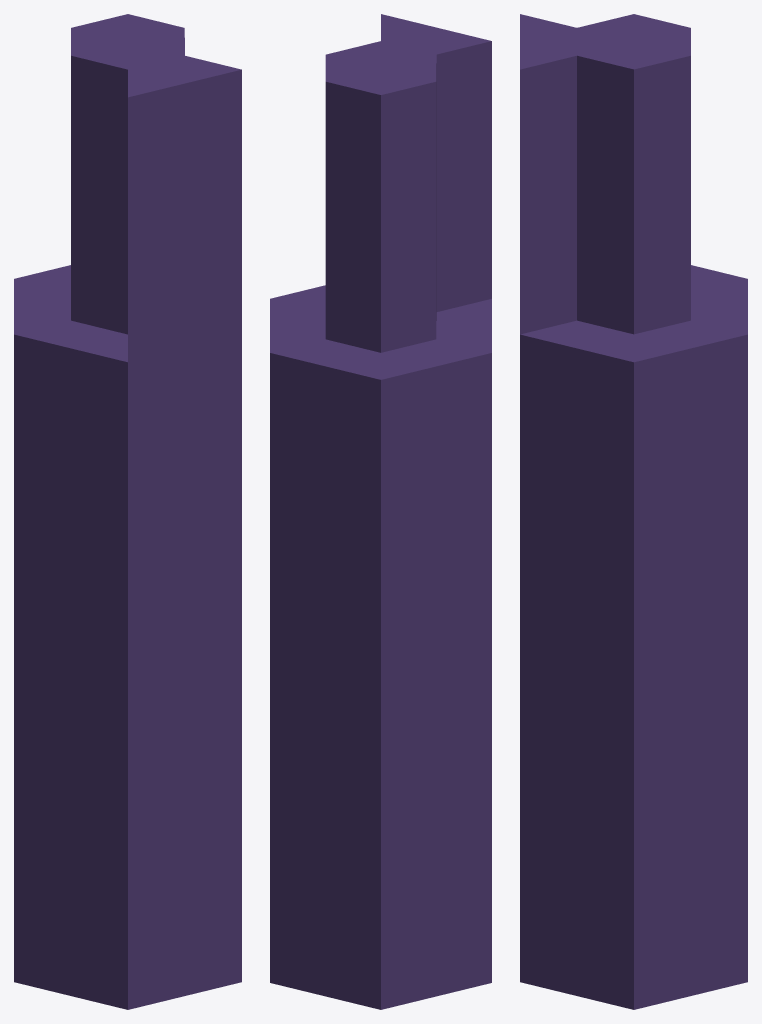
Rendered from Hex_Tall_15.fbx.
The picture shows the model from 3 angles, left to right: view 1: azimuth 30°, elevation 25°; view 2: azimuth 150°, elevation 25°; view 3: azimuth 270°, elevation 25°; orthographic projection. The views are drawn at different scales.
Visible parts, largest first — view 1: TileHex15; view 2: TileHex15; view 3: TileHex15.
Boxes of the visible parts, box(x1,y1,x2,y2) form: TileHex15: box(14, 14, 241, 1009); TileHex15: box(270, 14, 491, 1009); TileHex15: box(520, 14, 747, 1009).
Bounding box in the file's own units: 118 × 450 × 102.
